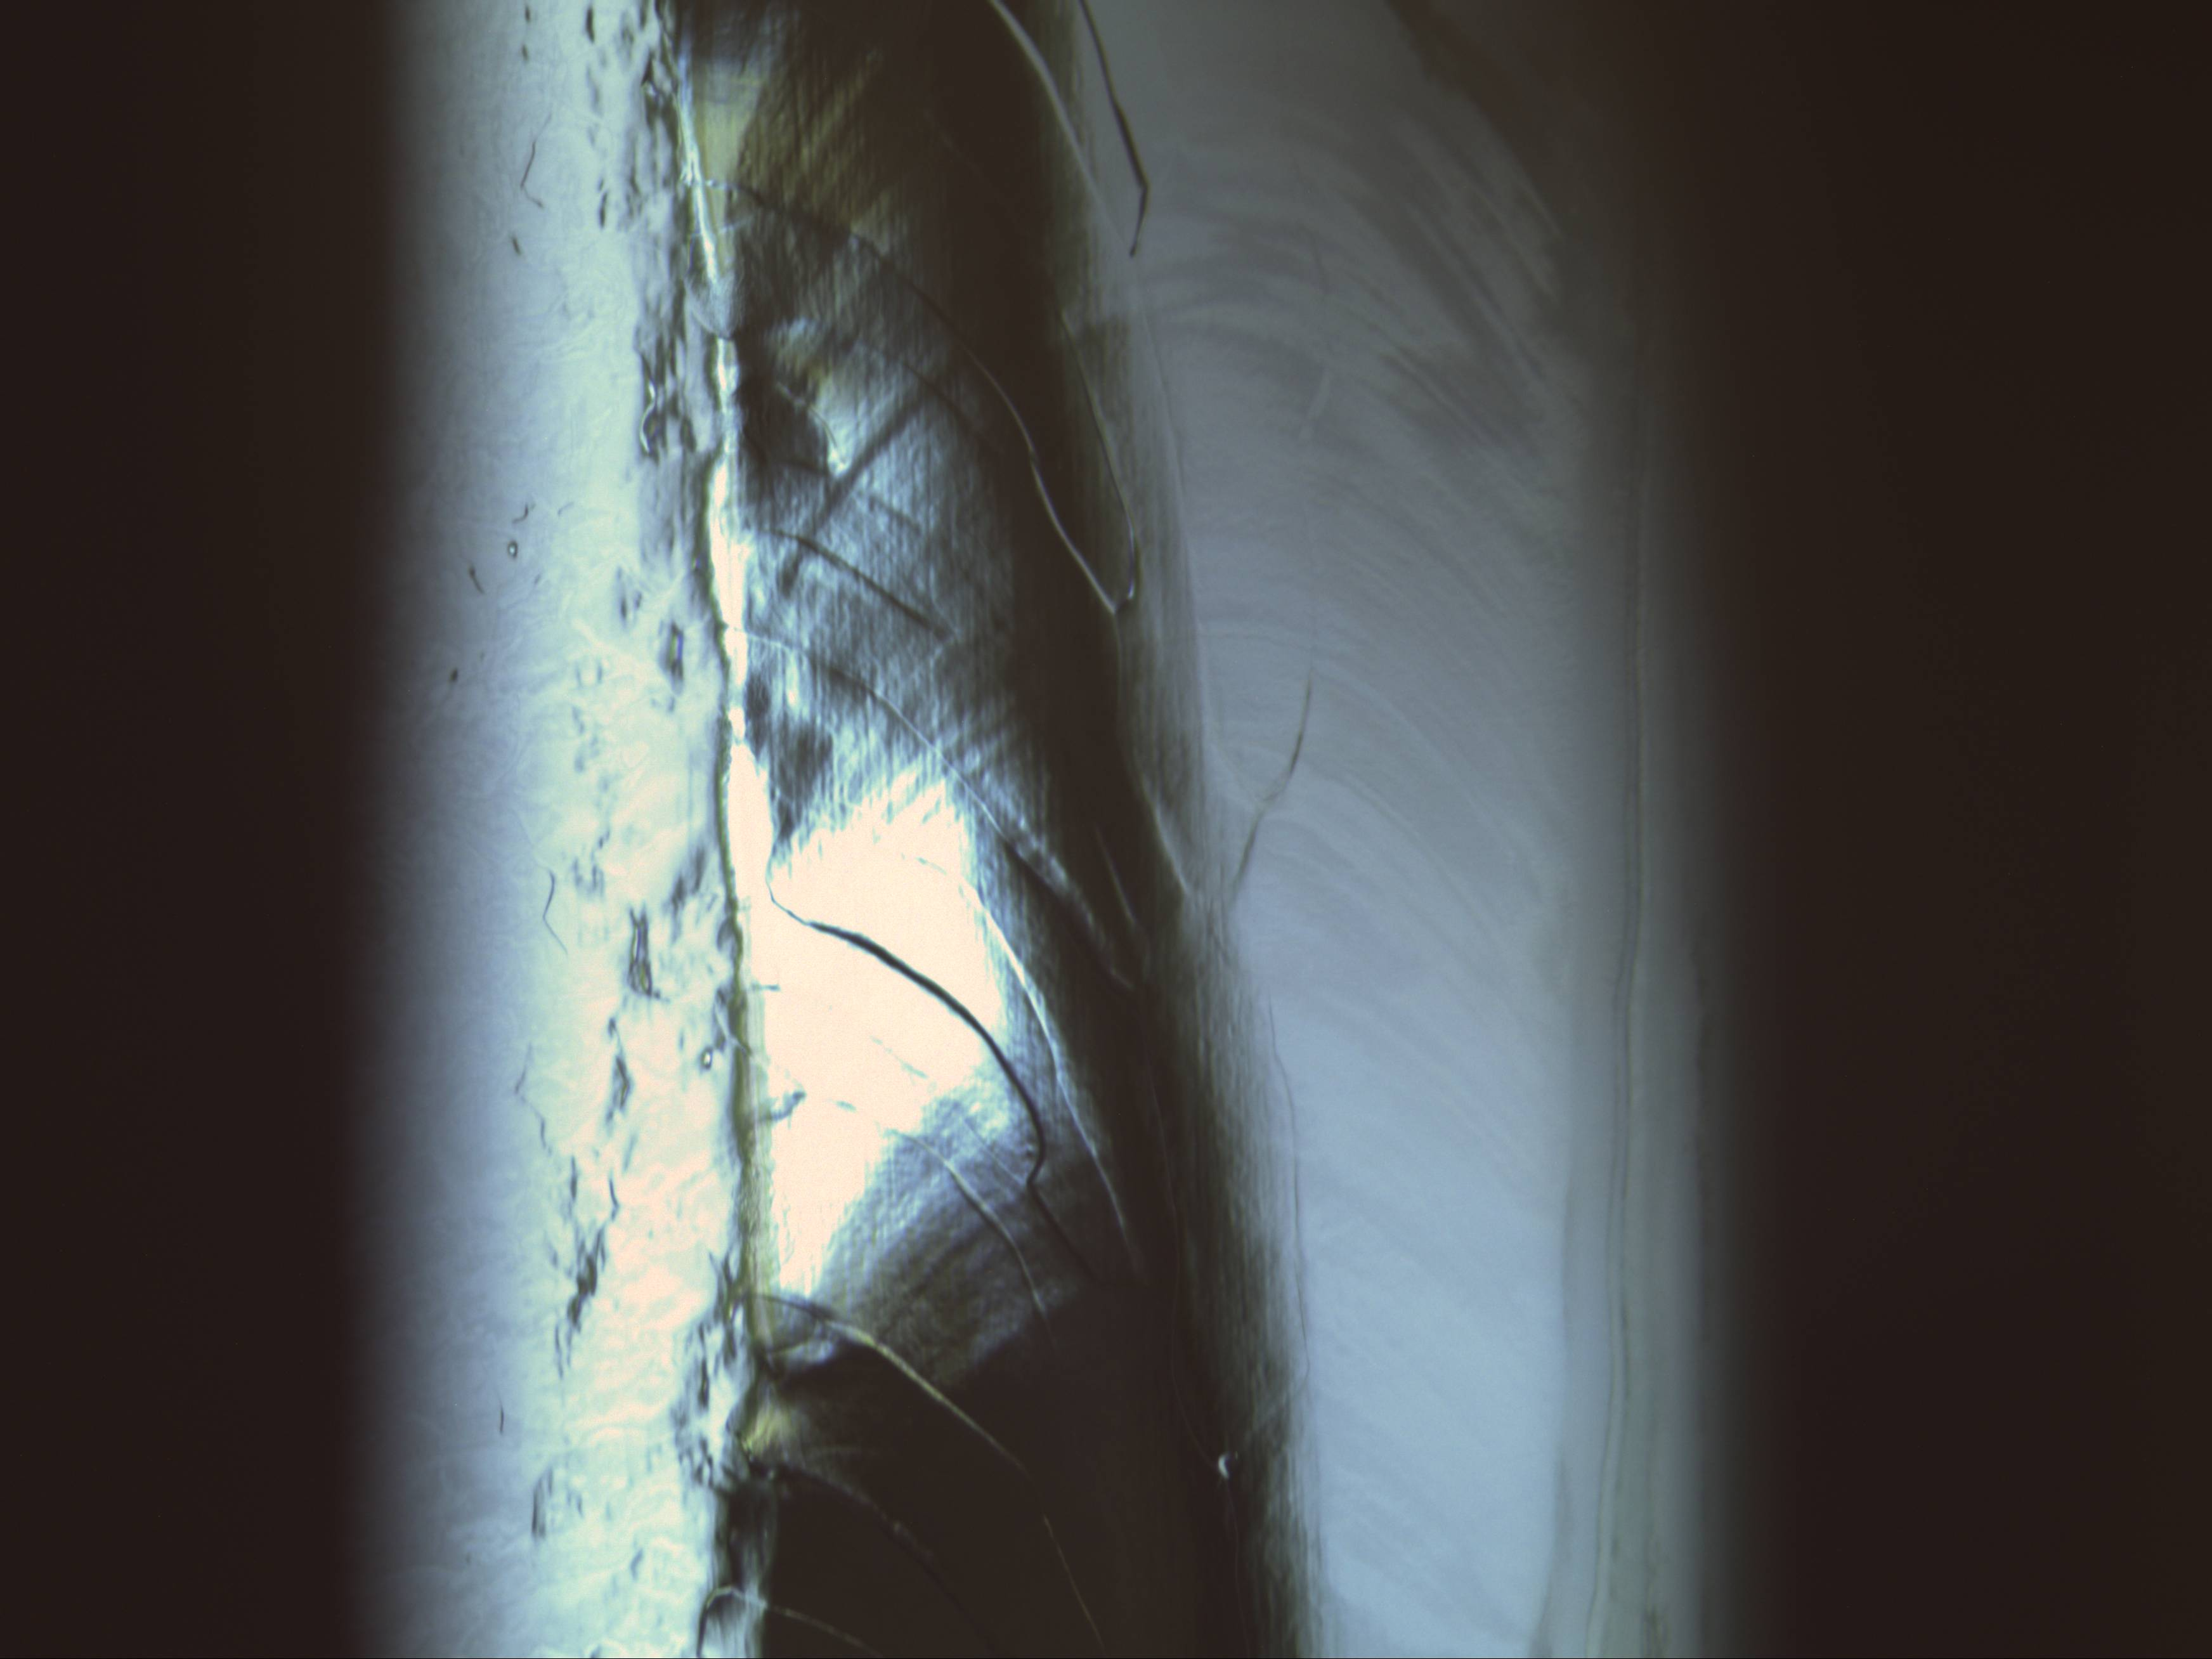defect: (1211, 1441, 1244, 1490)
